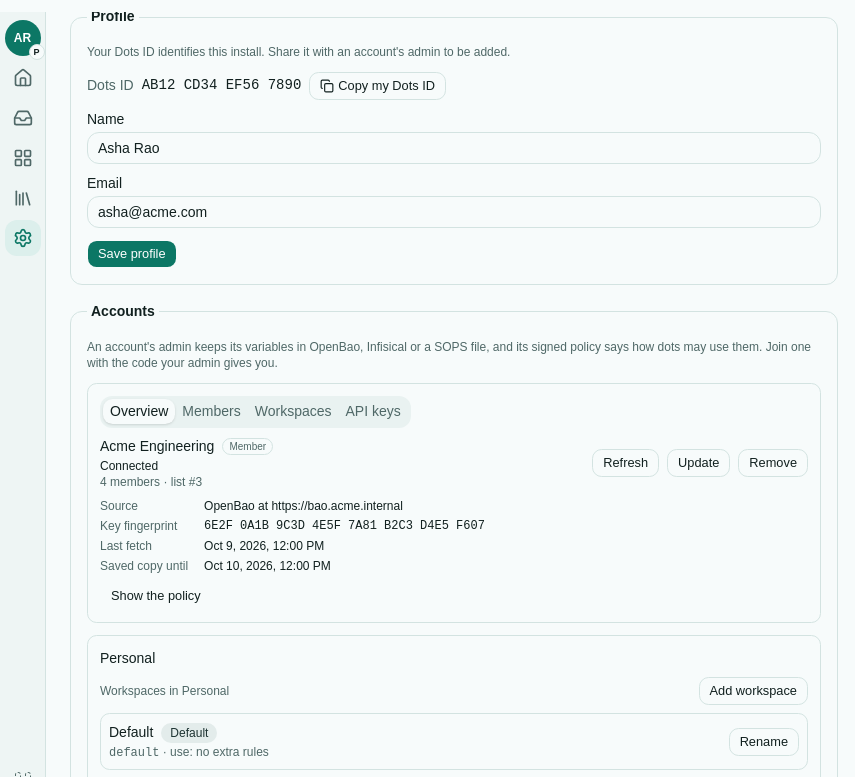
Test: Settings, Accounts, Workspaces › member sees workspaces read-only
This screenshot has width=855, height=777.
(page scrolled)
Click the tab "Workspaces".
click(293, 412)  # box x1=248 y1=399 x2=338 y2=424
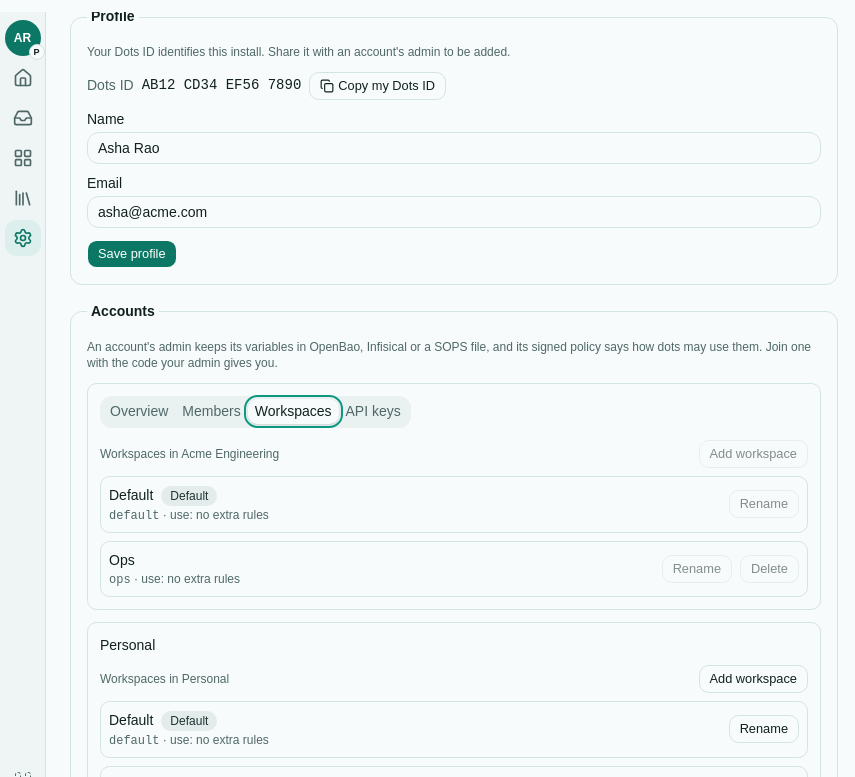
Expected: the list named "Workspaces in Acme Engineering" is shown, x1=100 y1=476 x2=808 y2=597
Expected: the button "Add workspace" in the row of "Acme Engineering" is disabled, x1=698 y1=440 x2=808 y2=468
Expected: the button with aria-label "Rename Ops" is disabled, x1=662 y1=555 x2=732 y2=583
